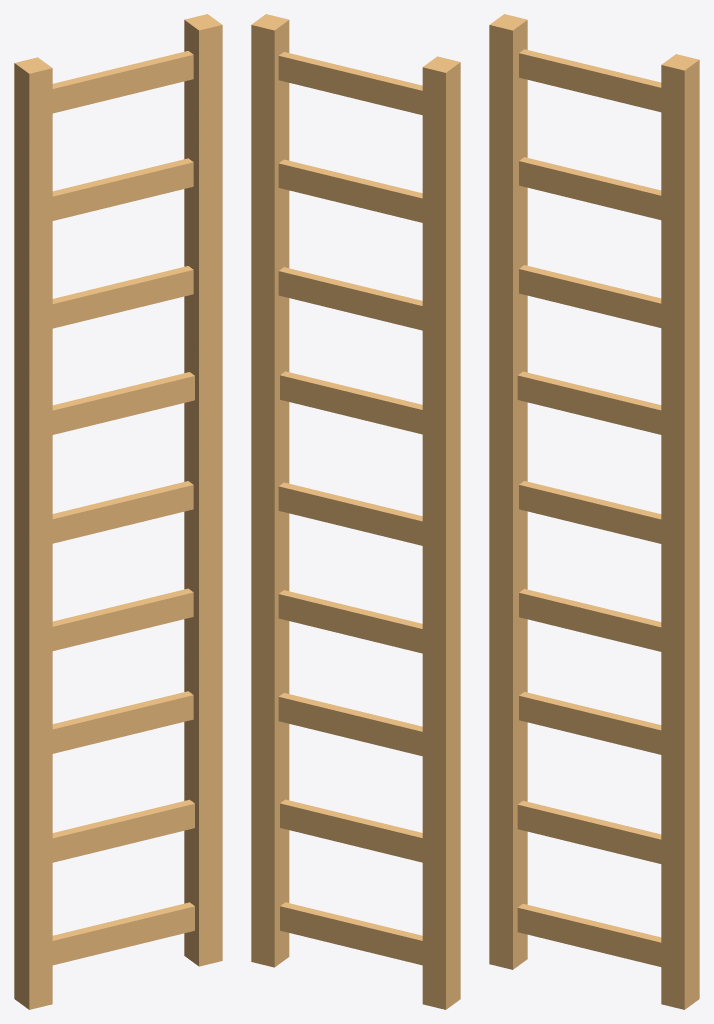
Rendered from ladder.glb.
The picture shows the model from 3 angles, left to right: view 1: azimuth 30°, elevation 25°; view 2: azimuth 150°, elevation 25°; view 3: azimuth 330°, elevation 25°; orthographic projection.
Parts seen in each view (by area): view 1: Node; view 2: Node; view 3: Node.
Part boxes in pixels (bbox=[...]): Node: bbox=[14, 14, 222, 1009]; Node: bbox=[251, 14, 460, 1009]; Node: bbox=[489, 14, 699, 1009].
Bounding box in the file's own units: 0.83 × 3.84 × 0.115.
